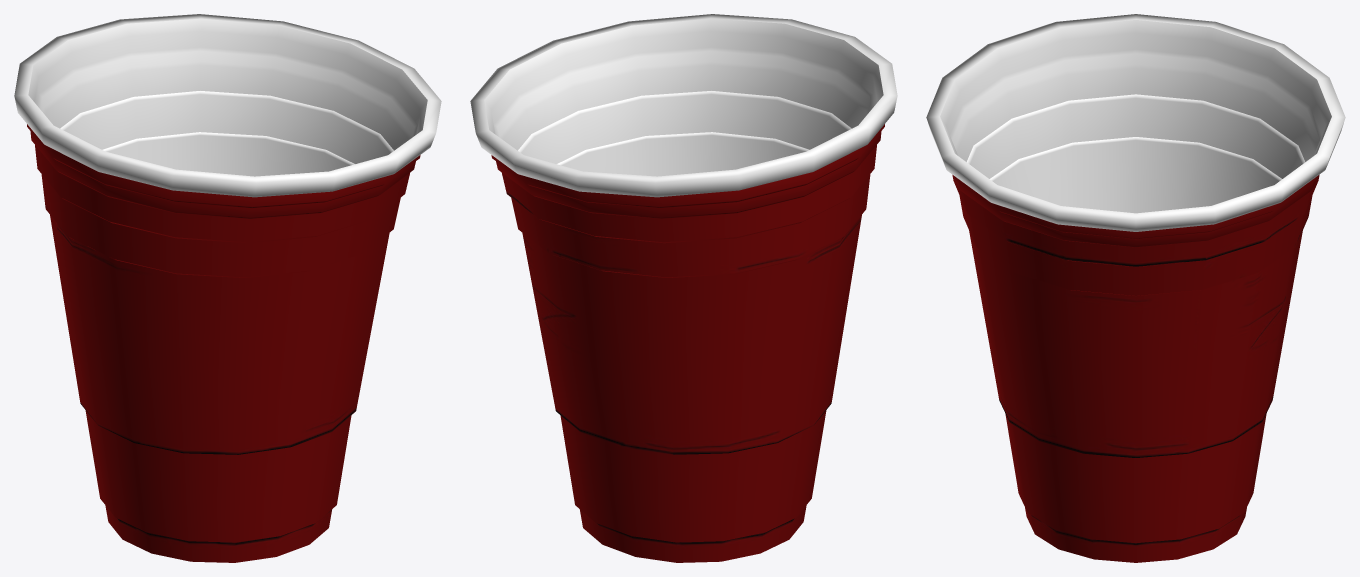
The model's file is plastic_cup.glb.
3 renders of one model, left to right at view 1: azimuth 30°, elevation 25°; view 2: azimuth 150°, elevation 25°; view 3: azimuth 270°, elevation 25°, orthographic. The views are drawn at different scales.
Visible parts, largest first — view 1: plastic_cup_opt:plasticCup (×2); view 2: plastic_cup_opt:plasticCup (×2); view 3: plastic_cup_opt:plasticCup (×2).
Boxes of the visible parts, x1,y1,x2,y2 form: plastic_cup_opt:plasticCup (×2): (14,14,441,562); plastic_cup_opt:plasticCup (×2): (470,14,897,562); plastic_cup_opt:plasticCup (×2): (926,14,1345,562).
Bounding box in the file's own units: 1.8 × 2 × 1.81.
2 materials, 1 textured.
